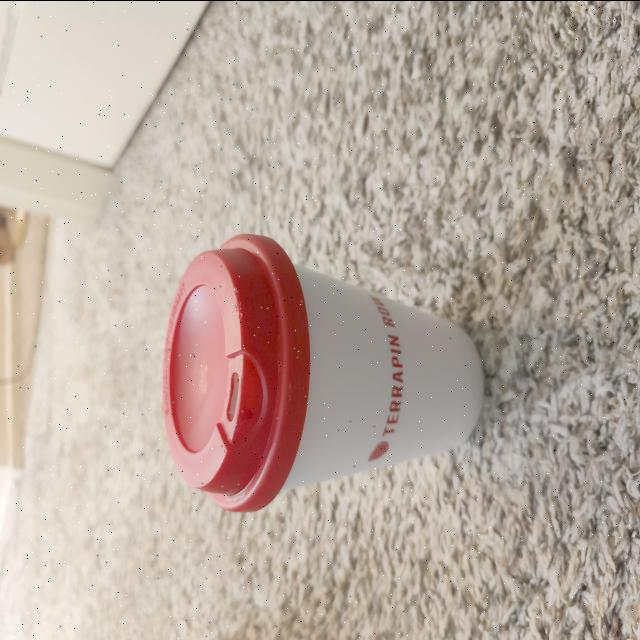mug: (163, 230, 485, 514)
